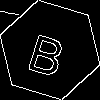B: (25, 25, 71, 78)
